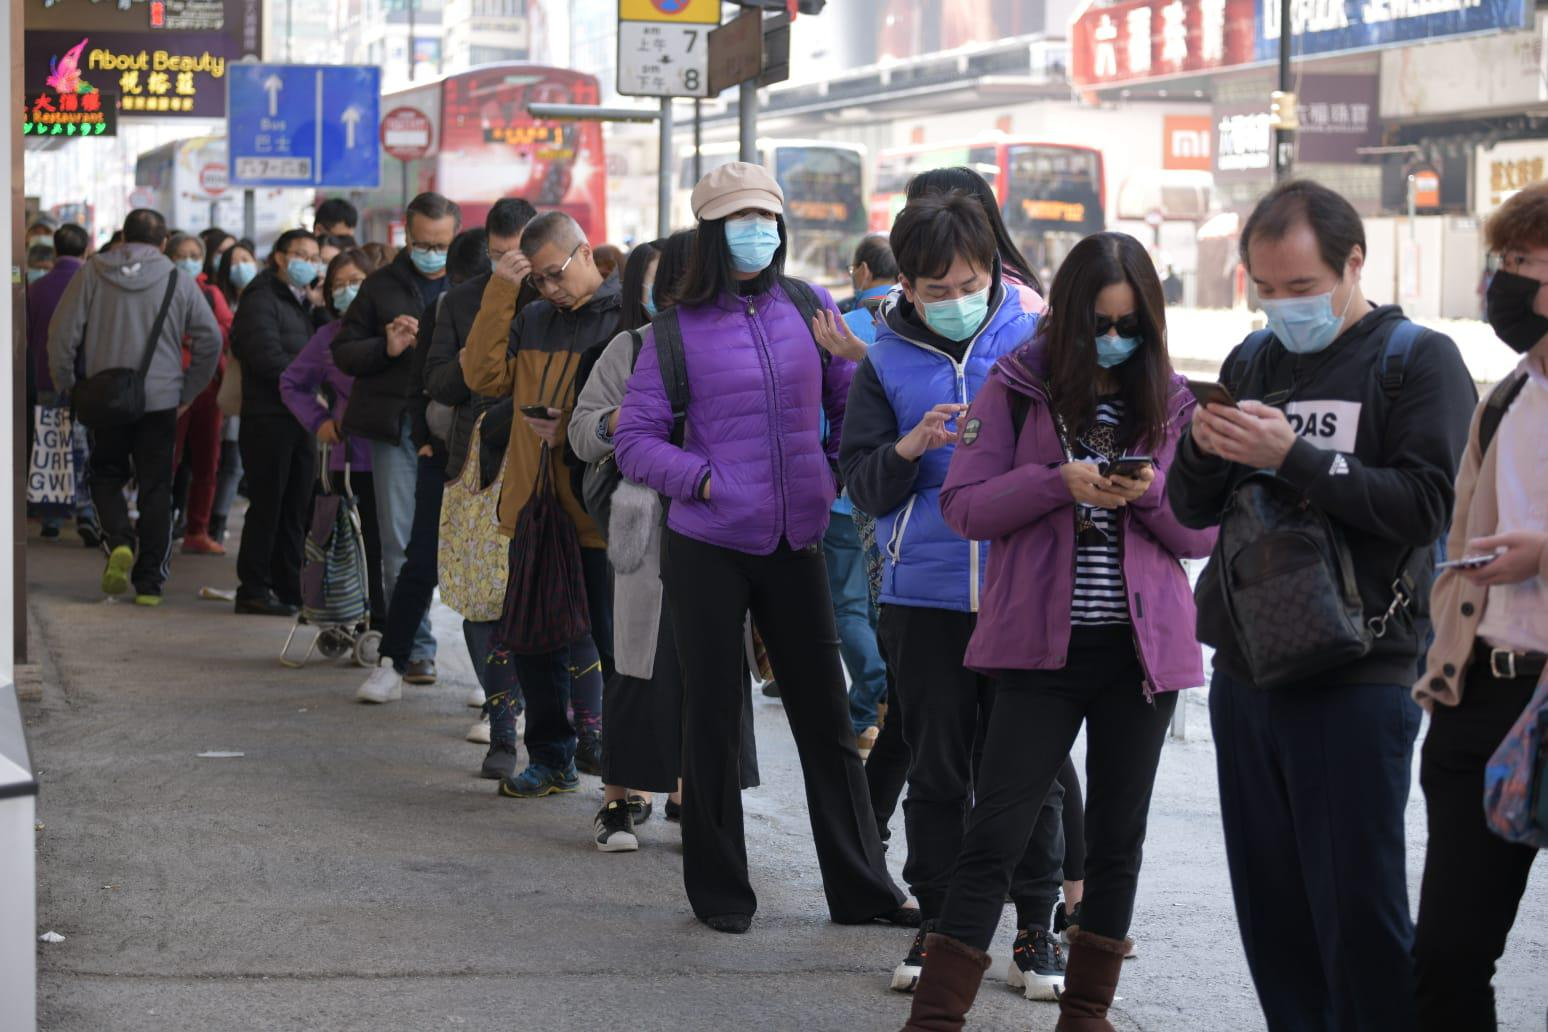mask: (1249, 266, 1344, 354), (1481, 240, 1546, 352), (913, 270, 989, 339), (1077, 303, 1145, 372), (724, 208, 783, 275), (408, 233, 451, 275), (283, 245, 318, 289), (328, 273, 361, 312), (226, 251, 257, 289), (169, 250, 205, 281)
none: (526, 258, 586, 308)
